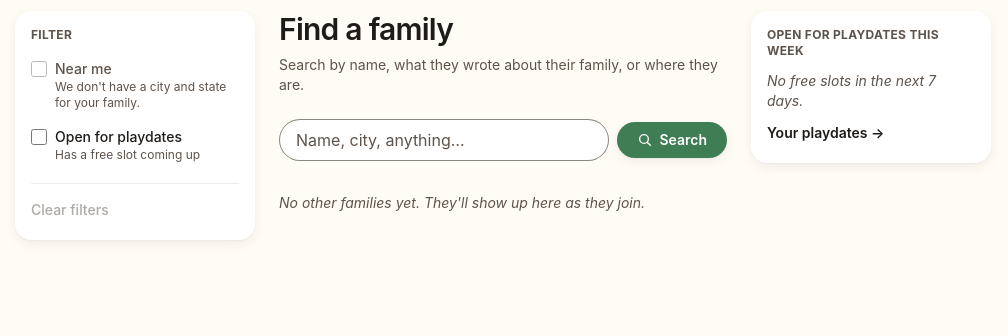
Test: SearchPage query › shows location and the playdate badge on query results
Type "anderson" into the field named "Search". click: point(444, 140)
box: [279,119,610,161]
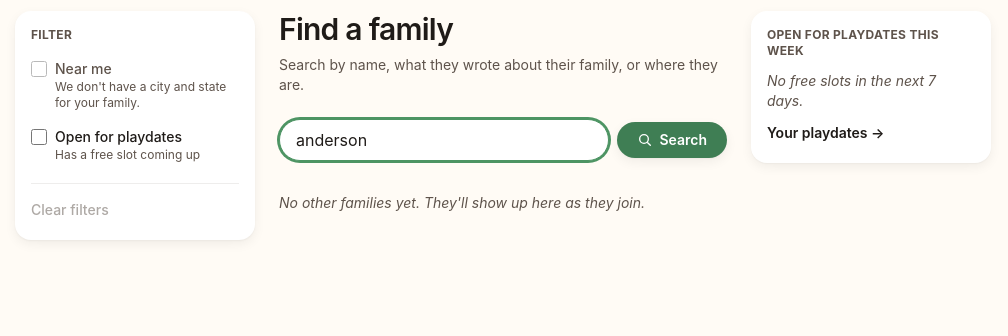
Click the button "Search". click: point(672, 140)
box: [618,122,727,158]
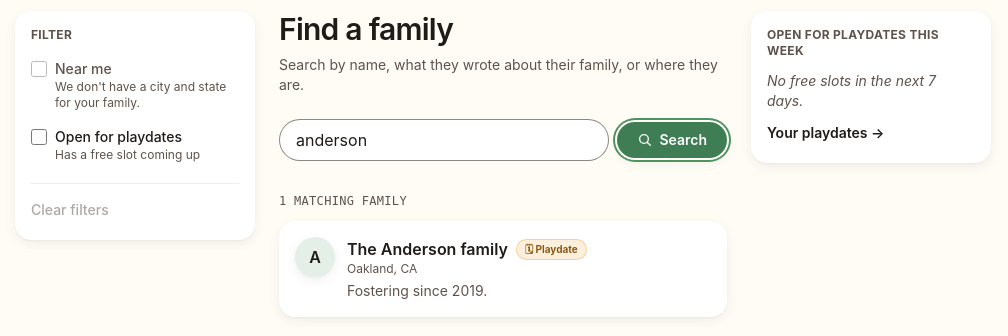
Expected: the link "The Anderson family" is shown, [347,239,508,259]
Expected: the list item shows "Oakland, CA", [347,261,417,276]
Expected: the text "🗓 Playdate" is shown, [525,242,578,256]
